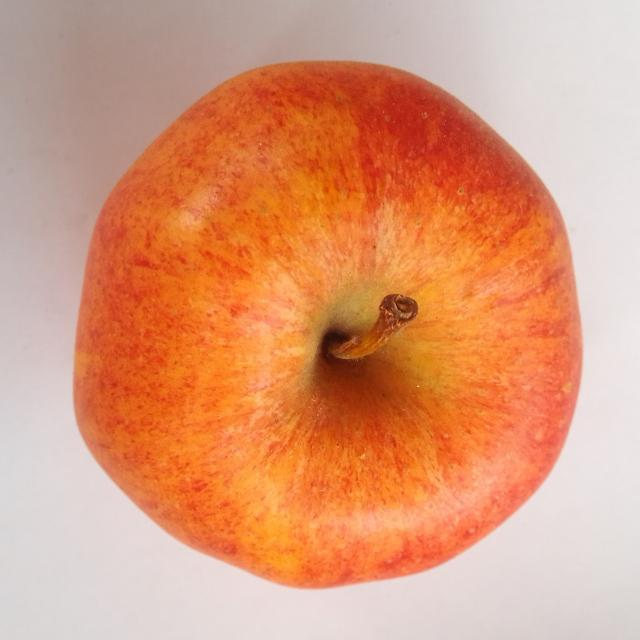Fresh Apple: (75, 60, 585, 590)
